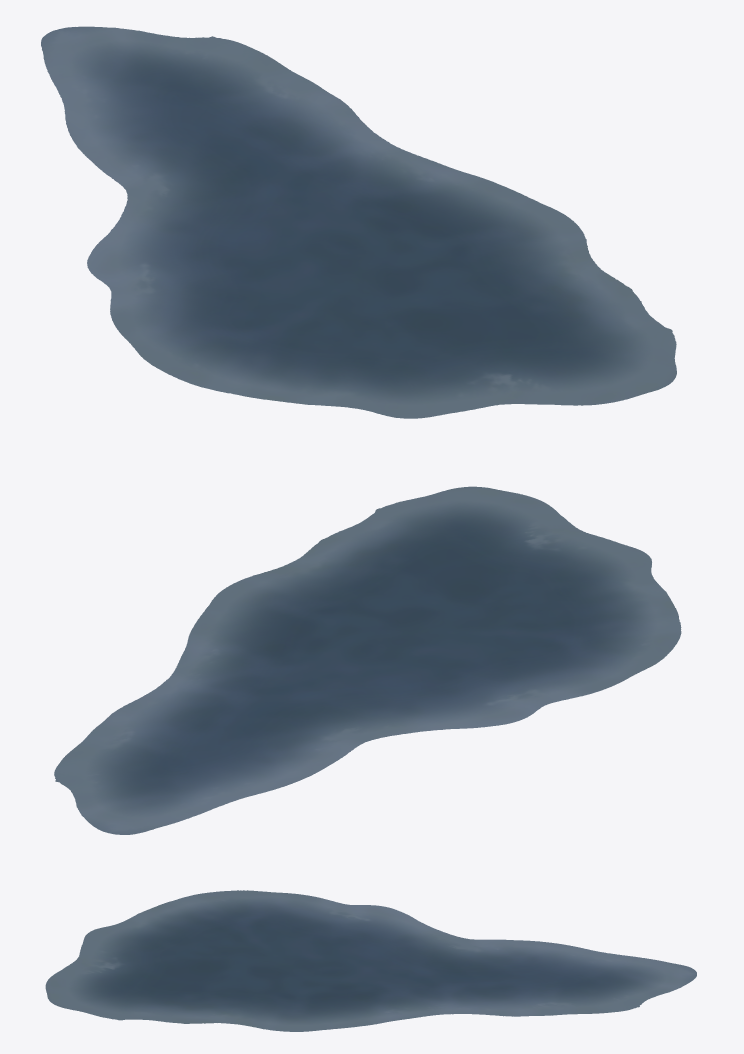
File: fx_map_forest_pool001_rw.FBX
The picture shows the model from 3 angles, top to bottom: view 1: azimuth 30°, elevation 25°; view 2: azimuth 150°, elevation 25°; view 3: azimuth 270°, elevation 25°; orthographic projection. The views are drawn at different scales.
Visible parts, largest first — view 1: fx_map_forest_pool001; view 2: fx_map_forest_pool001; view 3: fx_map_forest_pool001.
Boxes of the visible parts, box(x1,y1,x2,y2) form: fx_map_forest_pool001: box(41, 26, 676, 418); fx_map_forest_pool001: box(54, 486, 681, 834); fx_map_forest_pool001: box(45, 890, 696, 1031).
Size of the model in its own units: 300 by 3.52e-14 by 575.
